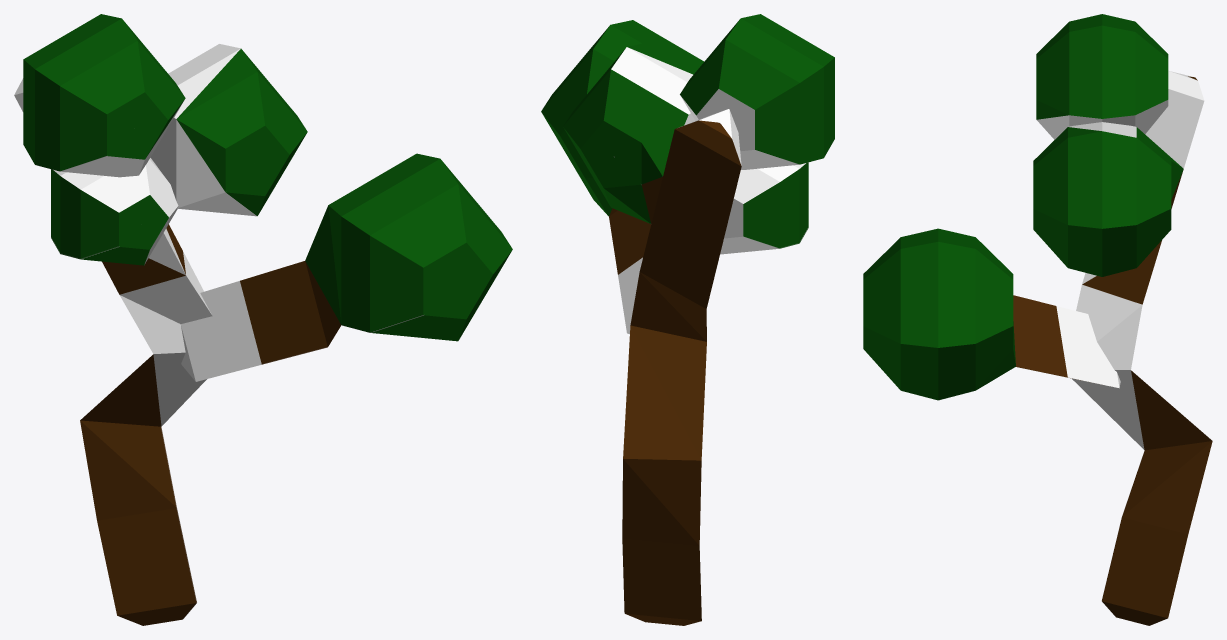
File: tree.glb
3 renders of one model, left to right at view 1: azimuth 30°, elevation 25°; view 2: azimuth 150°, elevation 25°; view 3: azimuth 270°, elevation 25°, orthographic. The views are drawn at different scales.
Size of the model in its own units: 0.5199 by 0.8352 by 0.465.
Materials: 1 (1 with a texture image).
